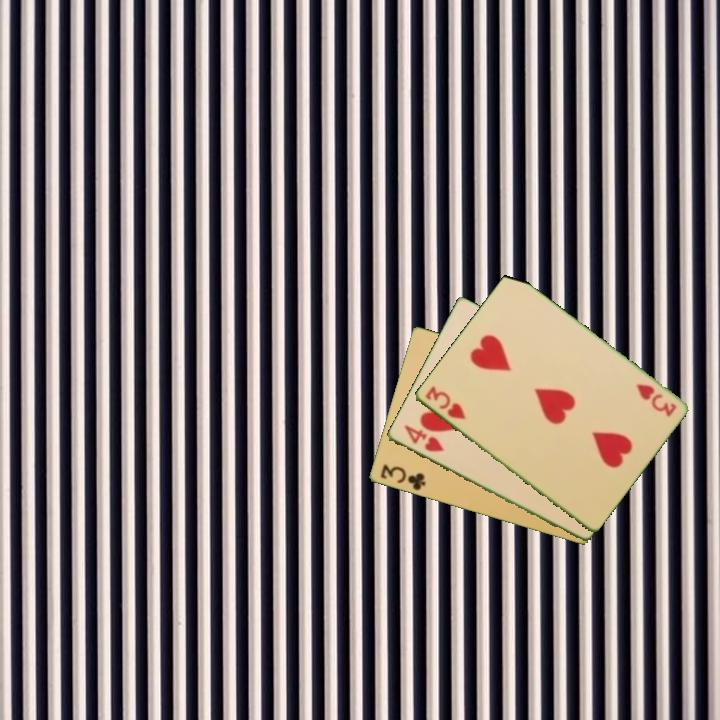3c: (376, 461, 428, 494)
3h: (421, 382, 468, 422), (632, 380, 679, 420)
4h: (400, 421, 447, 455)
